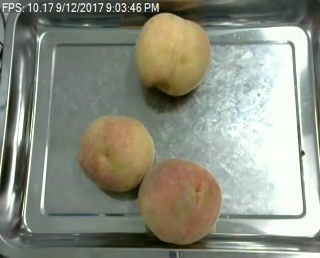Peach: (139, 156, 224, 244), (133, 11, 211, 95), (79, 116, 156, 193)
